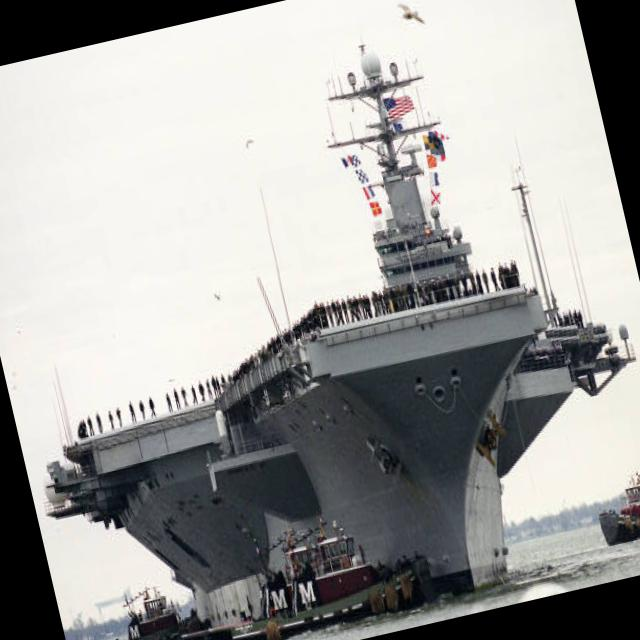Military: (43, 32, 631, 631)
